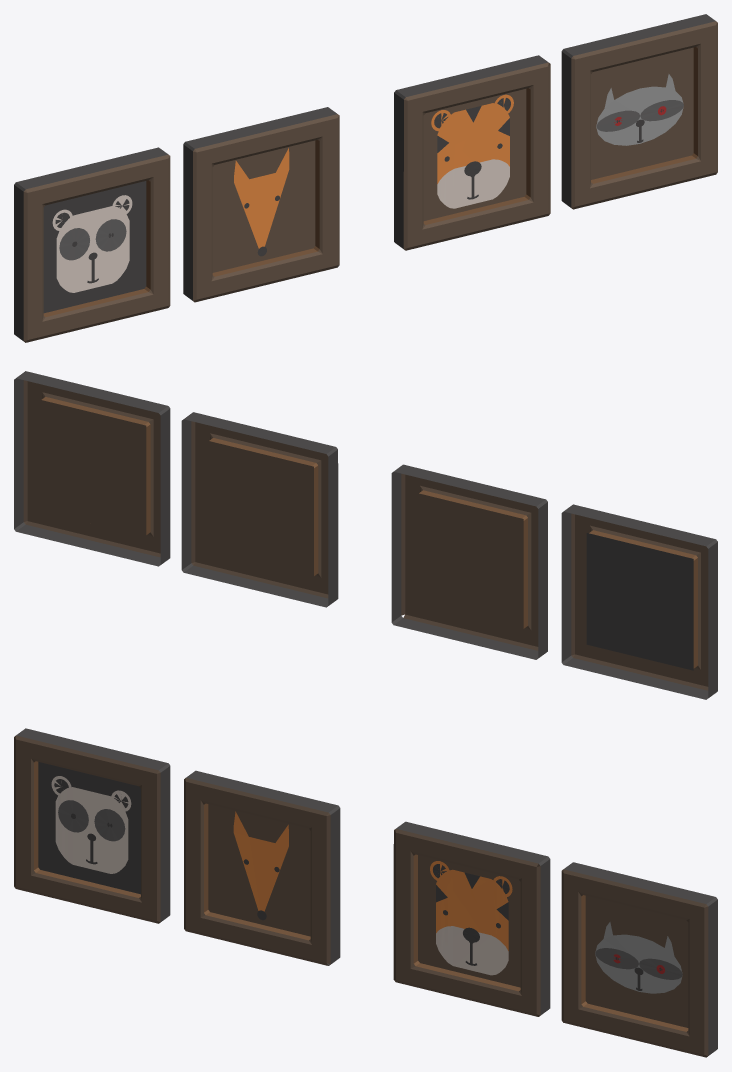
The model's file is Frames face.fbx.
The picture shows the model from 3 angles, top to bottom: view 1: azimuth 30°, elevation 25°; view 2: azimuth 150°, elevation 25°; view 3: azimuth 330°, elevation 25°; orthographic projection.
Parts seen in each view (by area): view 1: tiger frame, hiran frame, bili frame, PAnda frame; view 2: tiger frame, PAnda frame, bili frame, hiran frame; view 3: tiger frame, hiran frame, bili frame, PAnda frame.
Boxes of the visible parts, x1,y1,x2,y2 form: tiger frame: [394, 55, 550, 250]; hiran frame: [183, 107, 339, 302]; bili frame: [561, 14, 717, 209]; PAnda frame: [14, 147, 170, 342]; tiger frame: [181, 412, 338, 607]; PAnda frame: [561, 504, 717, 699]; bili frame: [14, 371, 170, 566]; hiran frame: [391, 464, 547, 659]; tiger frame: [393, 821, 550, 1016]; hiran frame: [184, 770, 340, 965]; bili frame: [561, 862, 717, 1057]; PAnda frame: [14, 728, 170, 923].
Size of the model in its own units: 460 by 97.85 by 12.77.
Materials: 1 (1 with a texture image).
